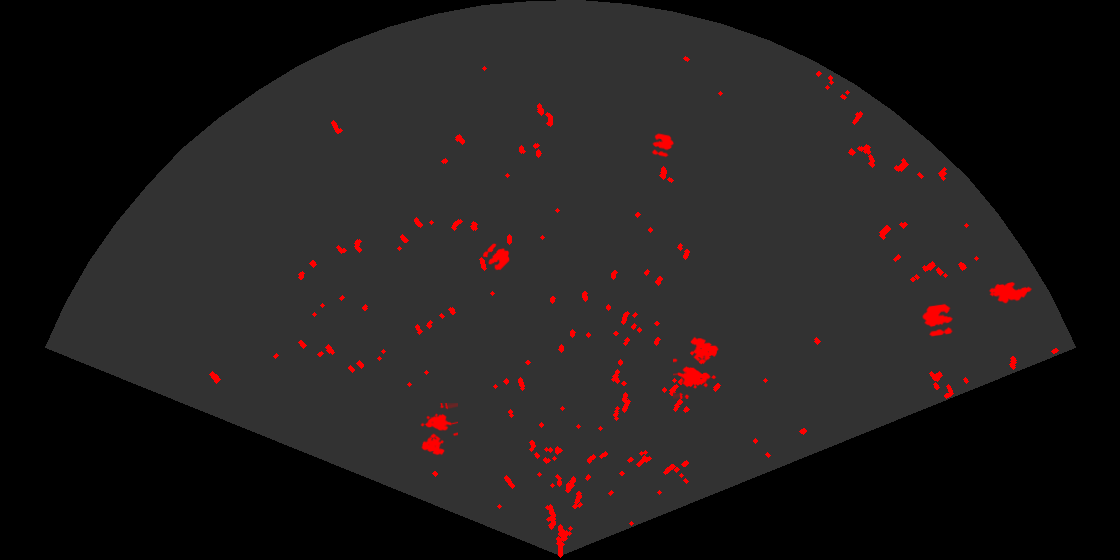AUV: (987, 280, 1034, 305)
ball: (921, 302, 954, 338), (481, 242, 511, 272), (650, 132, 675, 159)
cage: (673, 335, 720, 399), (419, 403, 458, 457)
